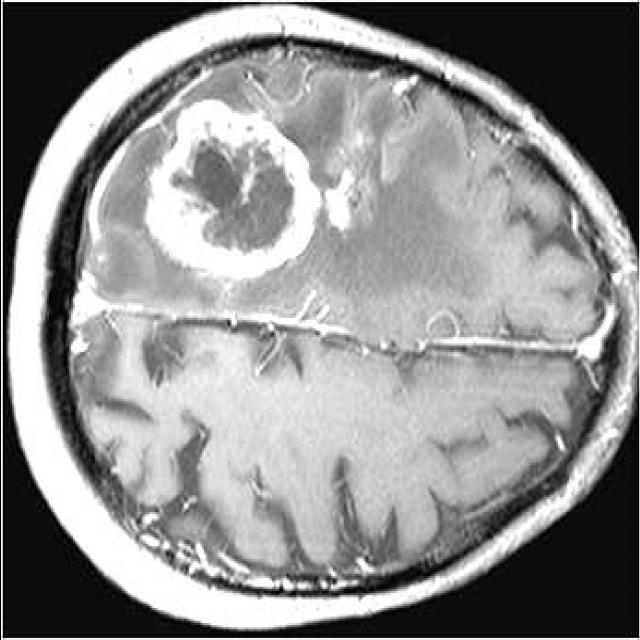tumor: (101, 98, 321, 279)
